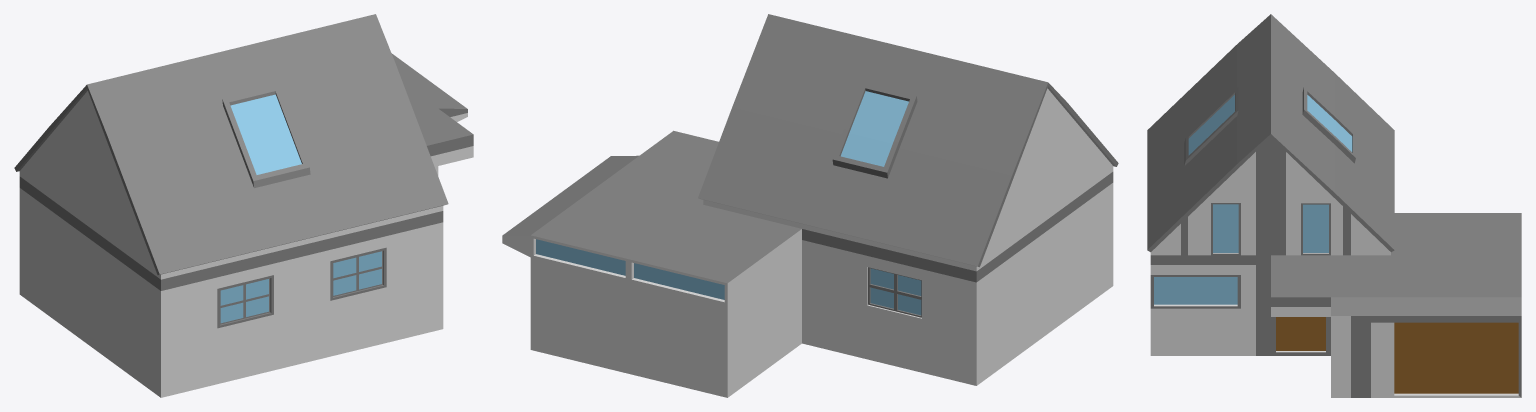
The model's file is domeekkkk.fbx.
The picture shows the model from 3 angles, left to right: view 1: azimuth 30°, elevation 25°; view 2: azimuth 150°, elevation 25°; view 3: azimuth 270°, elevation 25°; orthographic projection. The views are drawn at different scales.
Visible parts, largest first — view 1: Cube; view 2: Cube; view 3: Cube.
Boxes of the visible parts, <box> form: Cube: <box>14,14,473,397</box>; Cube: <box>502,14,1118,397</box>; Cube: <box>1147,14,1521,397</box>.
Bounding box in the file's own units: 933 × 563 × 855.
